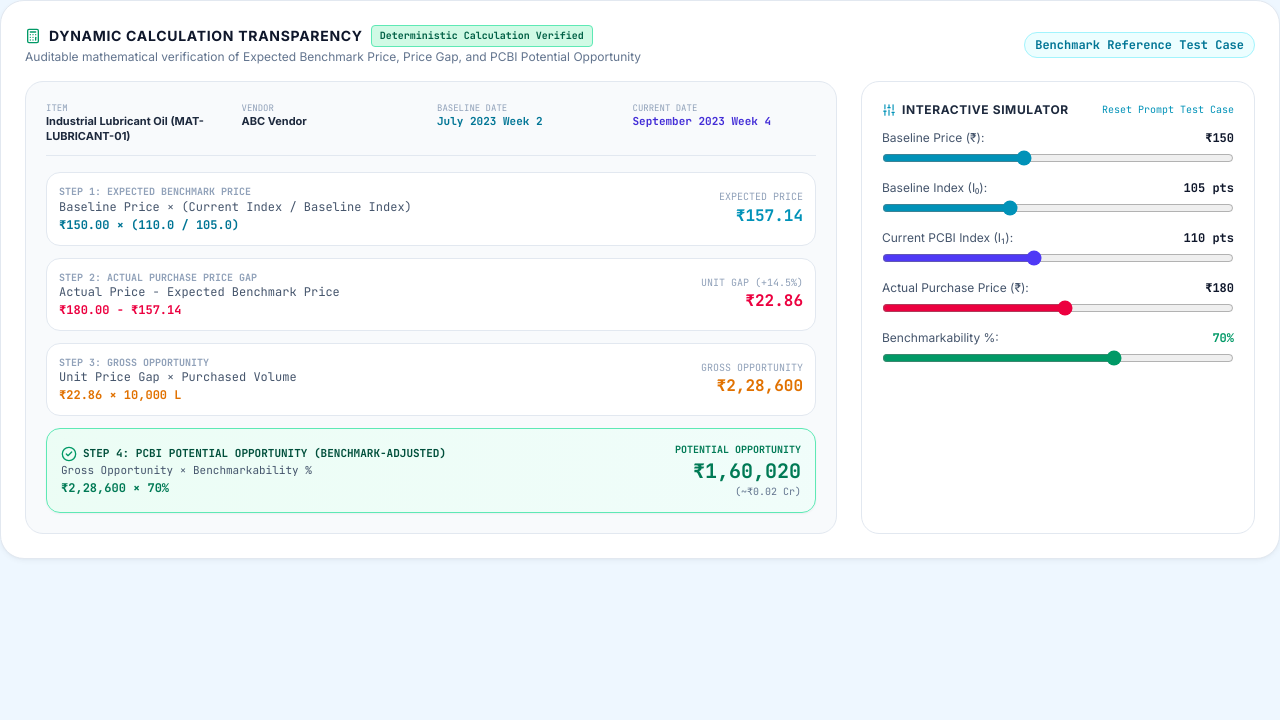
PCBI Components Suite › CalculationTransparencyCard › handles changing numeric input values and recalculates in real-time
Set the slider below "Baseline Price (₹):" to "200" at (1092, 158), box [882,150,1234,166]
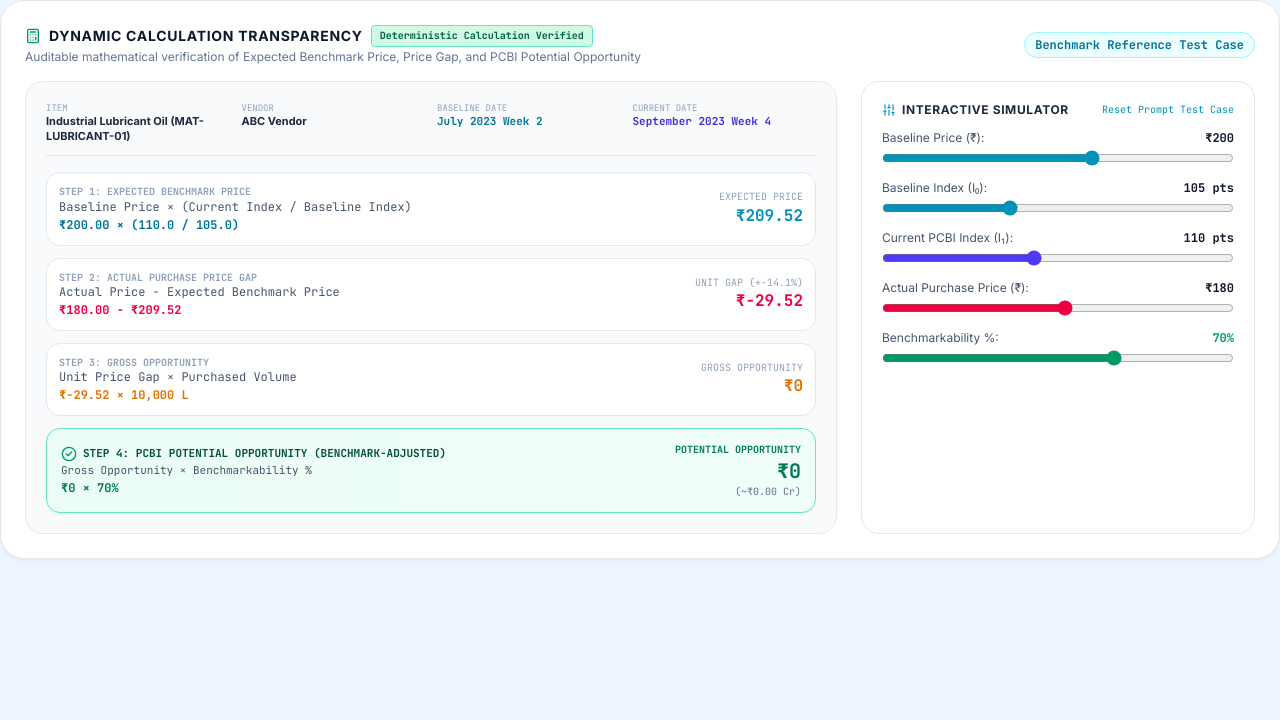
Set the slider below "Baseline Index (I₀):" to "100" at (986, 208), box [882,200,1234,216]
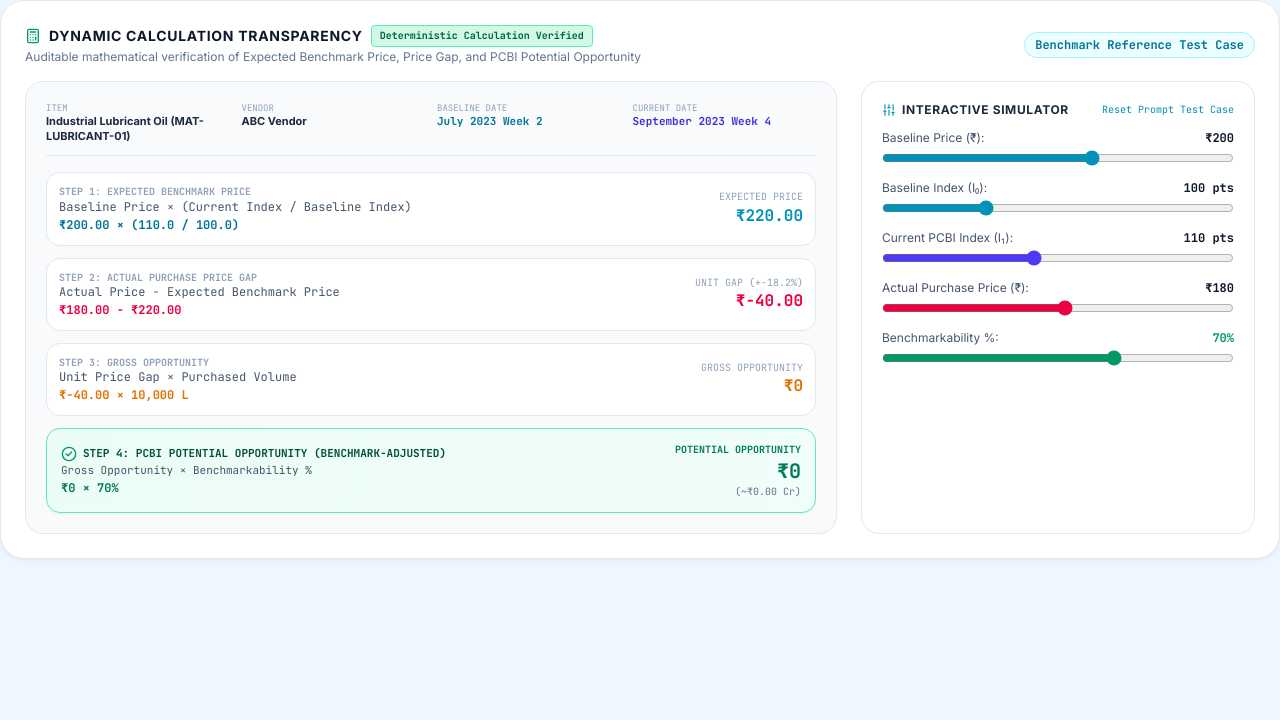
Set the slider below "Current PCBI Index (I₁):" to "120" at (1082, 258), box [882,250,1234,266]
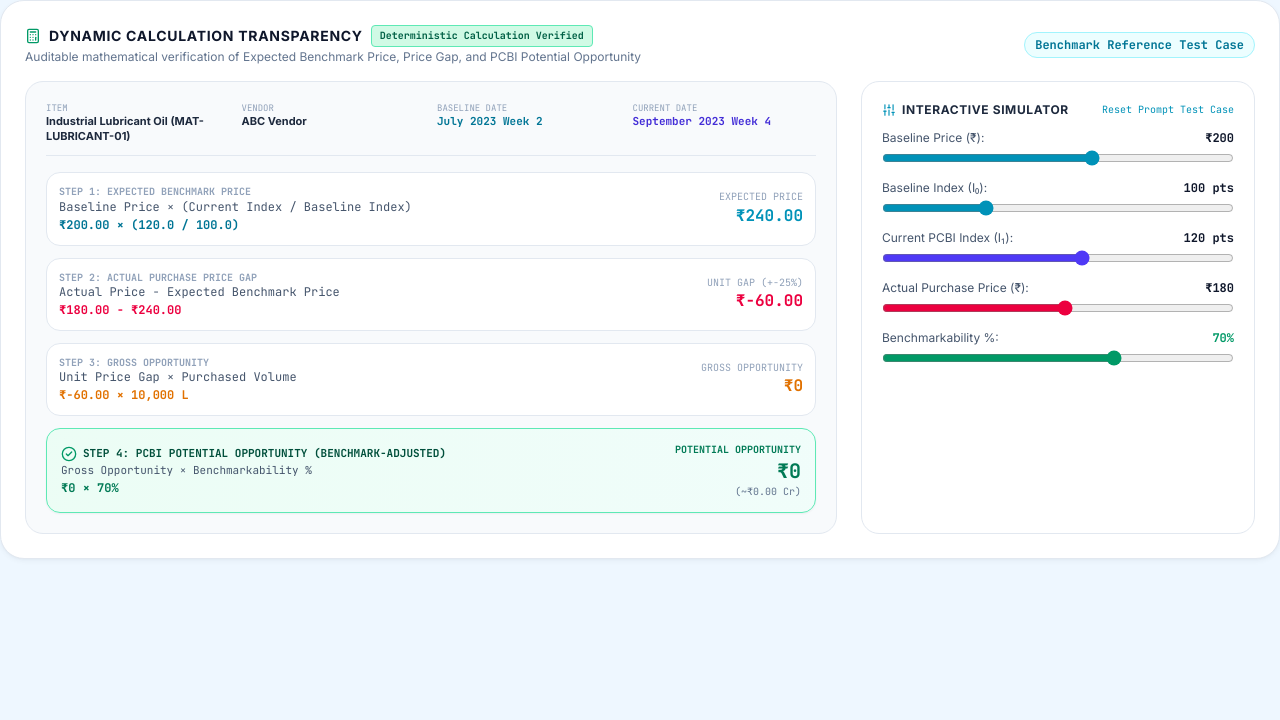
Set the slider below "Actual Purchase Price (₹):" to "260" at (1172, 308), box [882,300,1234,316]
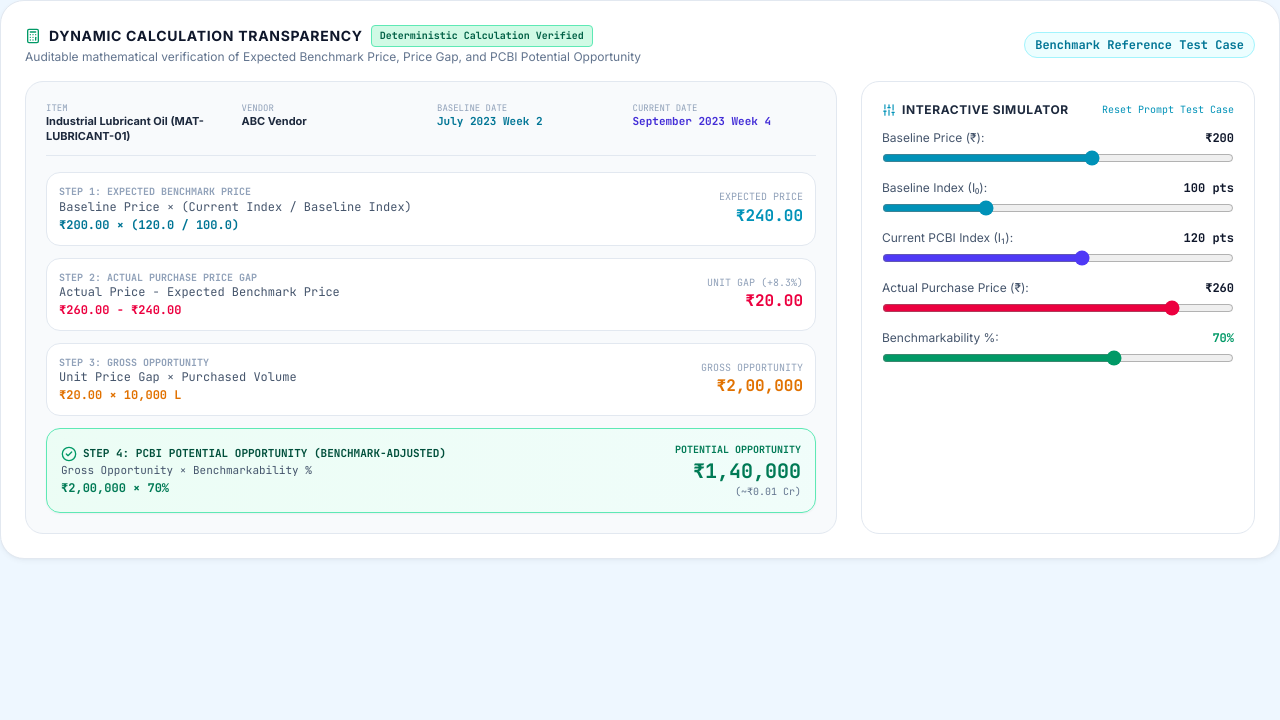
Set the slider below "Benchmarkability %:" to "80" at (1151, 358), box [882,350,1234,366]
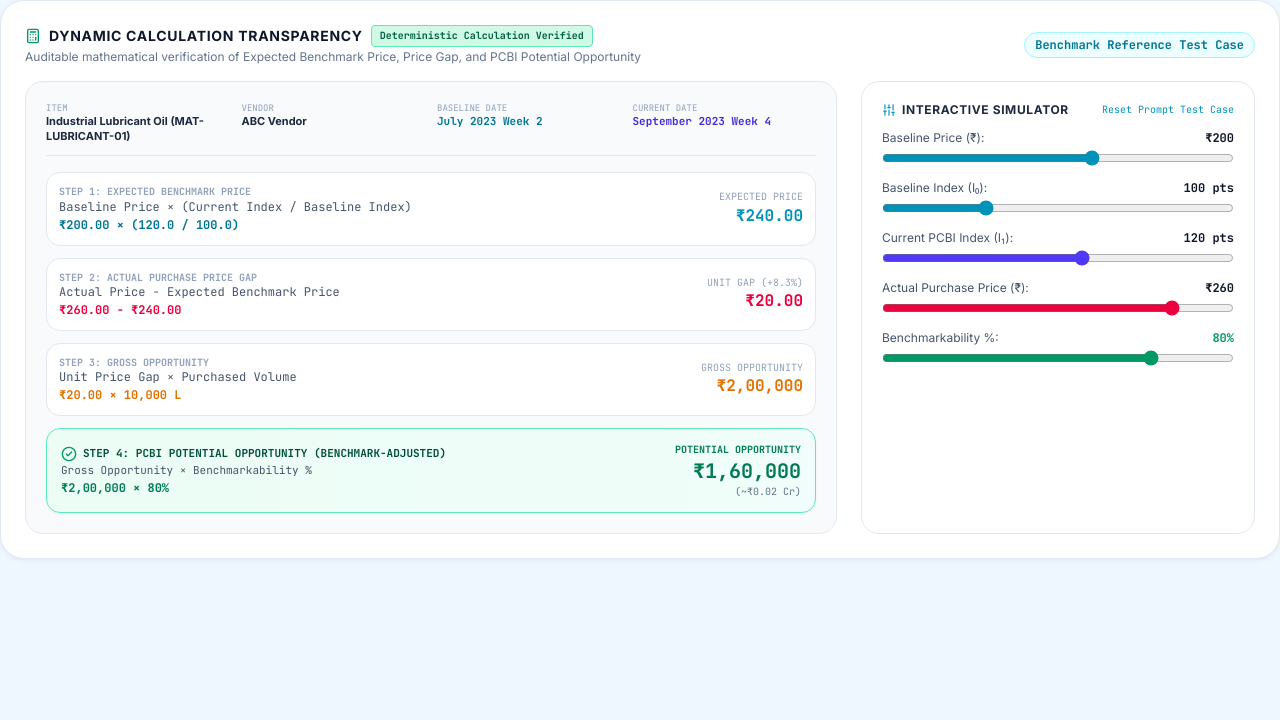
Reset to Prompt 100 test case
Click the button "Reset Prompt Test Case" at (1168, 110), box [1102,102,1234,118]
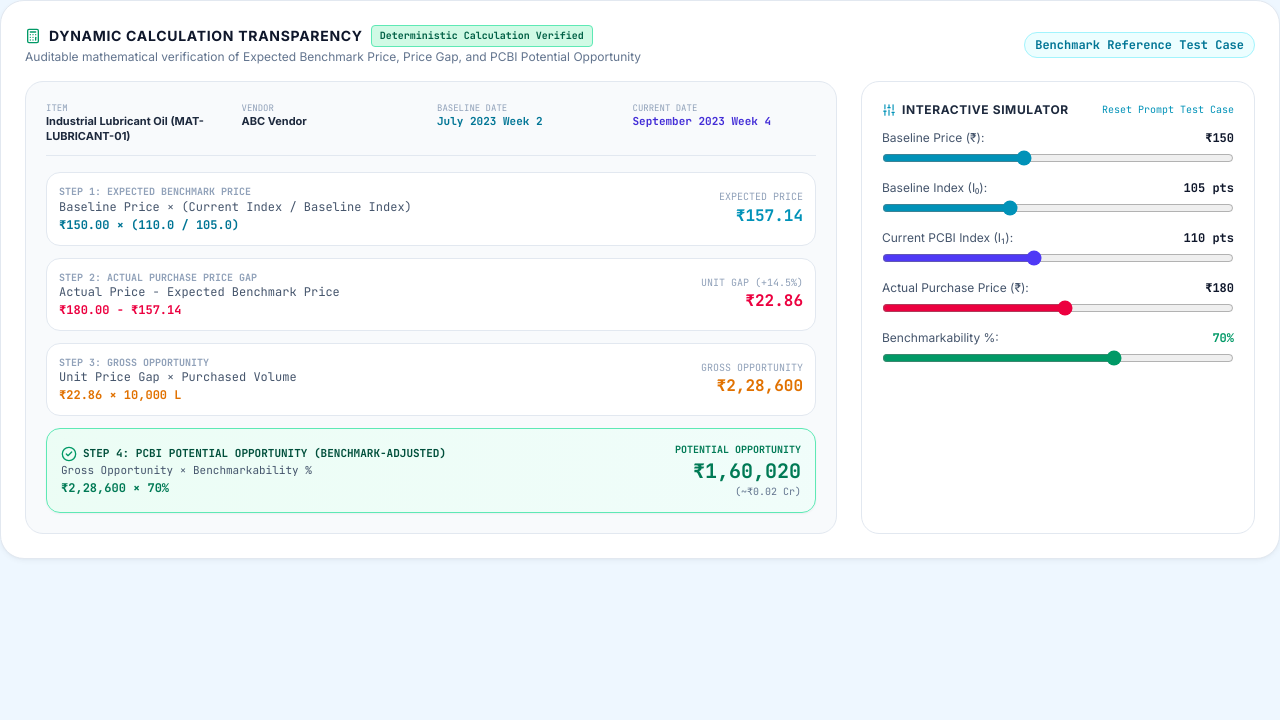
Expected: the text "₹1,60,020" is shown, [693,458,801,484]
